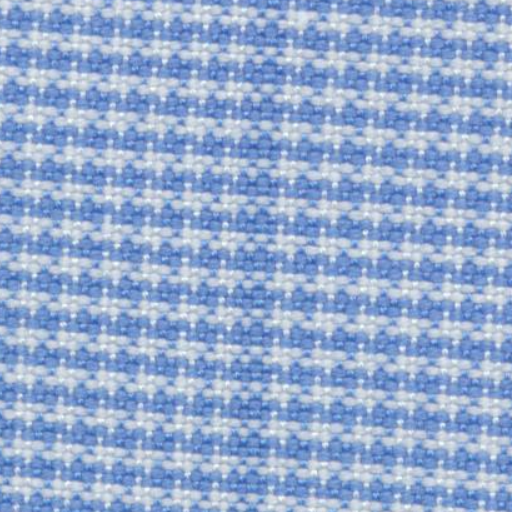TuoSha: (208, 10, 302, 502)
